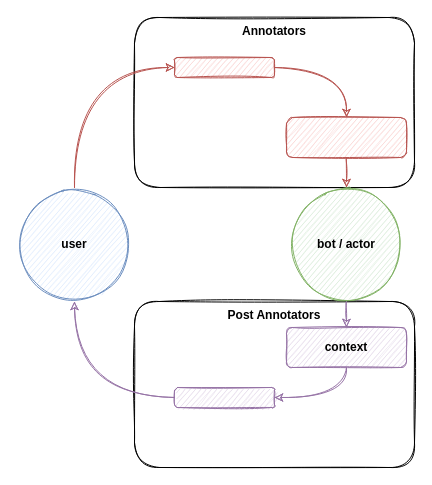
This 432x485 diagram has some shape labels left out. The box of each missing label's shape, as (x1, y1, x2, y2) in pixels:
*context: (286, 116, 406, 158)
request: (174, 56, 274, 78)
response: (174, 386, 274, 408)
